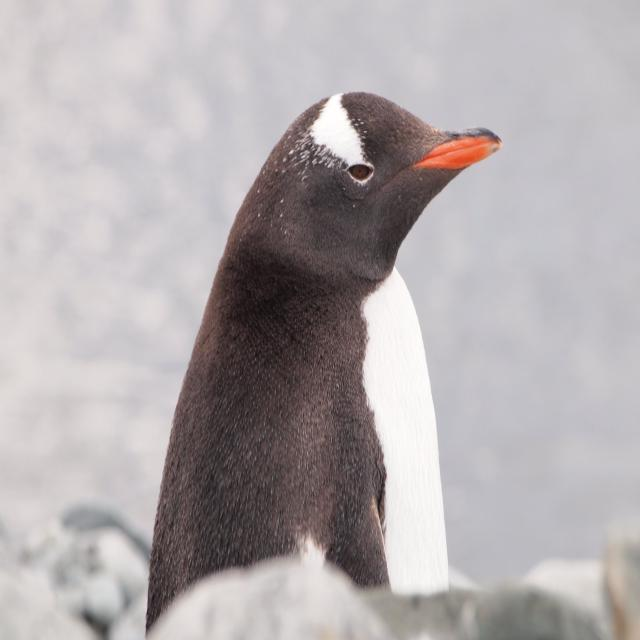Penguins: (154, 43, 506, 640)
